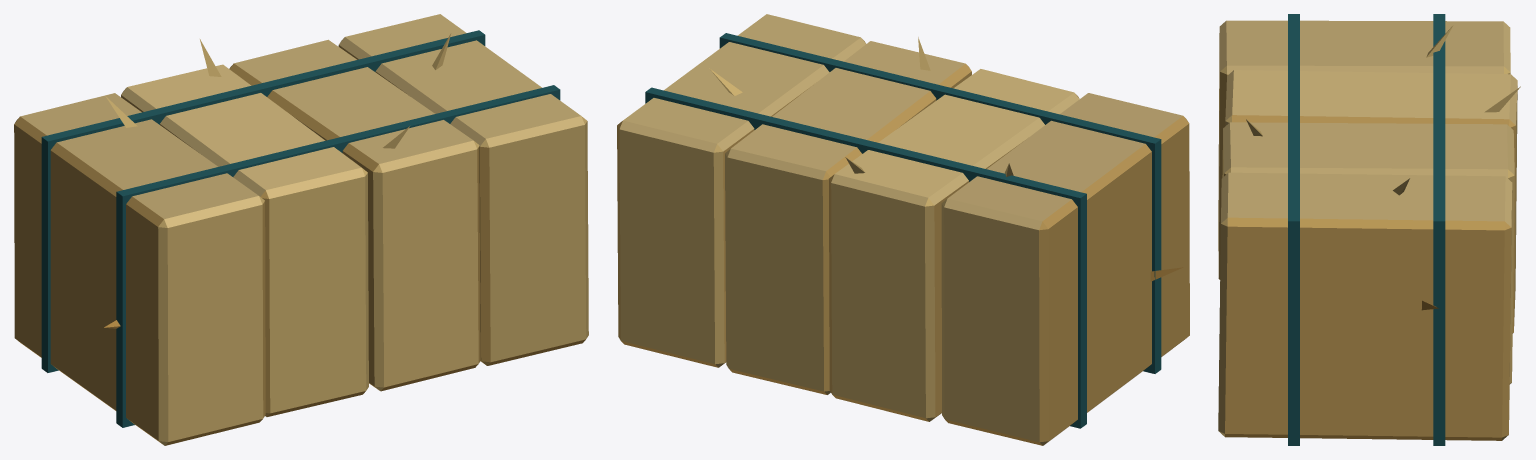
Rendered from hay_bale_square.glb.
The picture shows the model from 3 angles, left to right: view 1: azimuth 30°, elevation 25°; view 2: azimuth 150°, elevation 25°; view 3: azimuth 270°, elevation 25°; orthographic projection. The views are drawn at different scales.
Visible parts, largest first — view 1: hay_bale_square; view 2: hay_bale_square; view 3: hay_bale_square.
Part boxes in pixels (x1=…): hay_bale_square: x1=14, y1=14, x2=588, y2=445; hay_bale_square: x1=617, y1=14, x2=1189, y2=445; hay_bale_square: x1=1218, y1=14, x2=1520, y2=445.
Size of the model in its own units: 1.11 by 0.561 by 0.6264.
